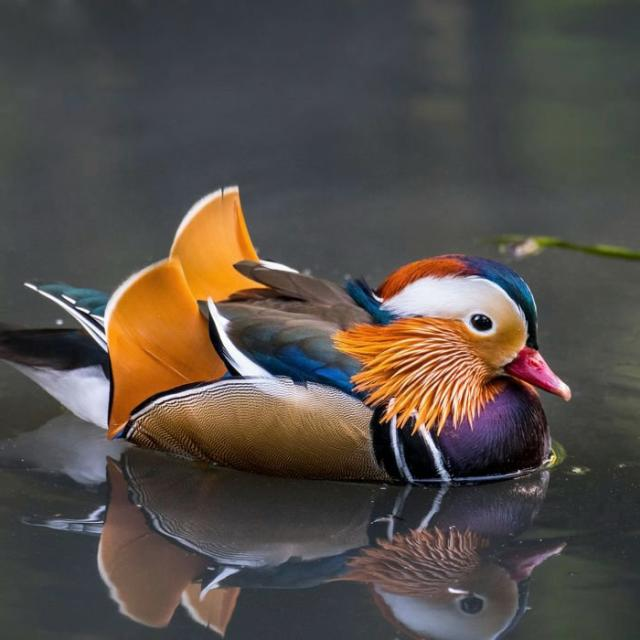duck: (1, 187, 571, 483)
